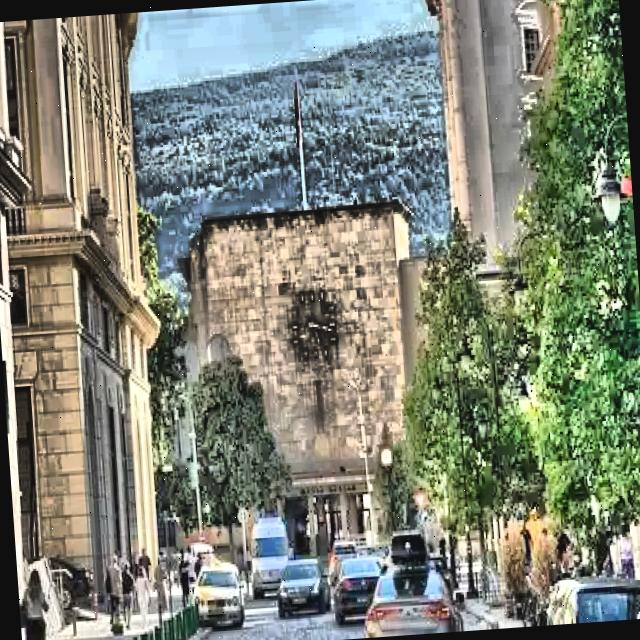old railway: (186, 194, 440, 537)
